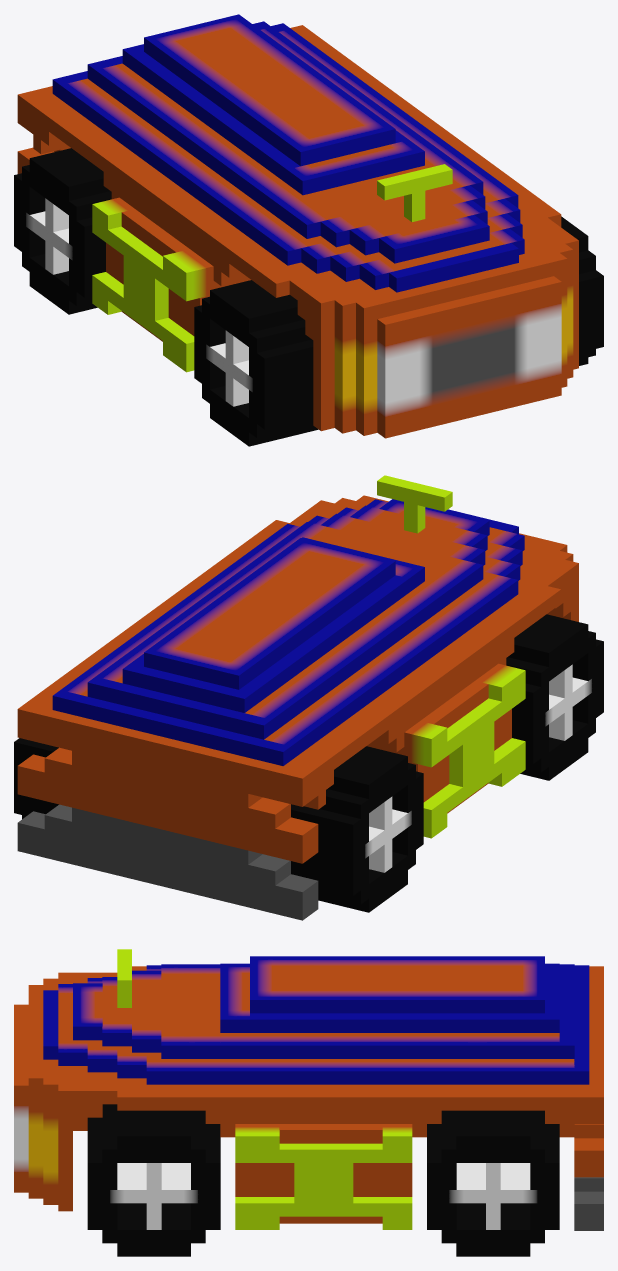
Rendered from Car_42.fbx.
3 renders of one model, top to bottom at view 1: azimuth 30°, elevation 25°; view 2: azimuth 150°, elevation 25°; view 3: azimuth 270°, elevation 25°, orthographic. The views are drawn at different scales.
Visible parts, largest first — view 1: Car_42; view 2: Car_42; view 3: Car_42.
Boxes of the visible parts, x1=… form: Car_42: x1=14, y1=14, x2=603, y2=446; Car_42: x1=14, y1=475, x2=603, y2=920; Car_42: x1=14, y1=949, x2=603, y2=1256.
Bounding box in the file's own units: 25 × 16 × 40.
1 material, 1 textured.
